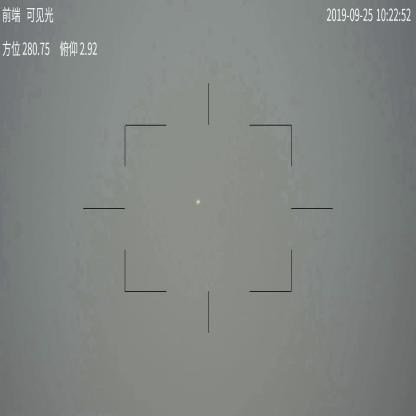uav: (194, 196, 203, 208)
